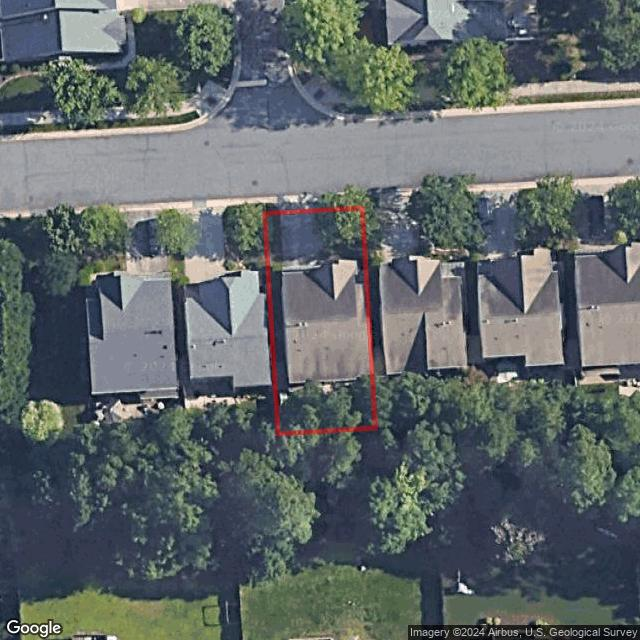Driveway: (281, 212, 324, 271)
Extra-Driveway: (277, 203, 321, 213)
Extra-Lawn: (320, 202, 361, 211), (263, 203, 282, 214)
House: (279, 258, 370, 383)
Lawn: (266, 209, 375, 434)
